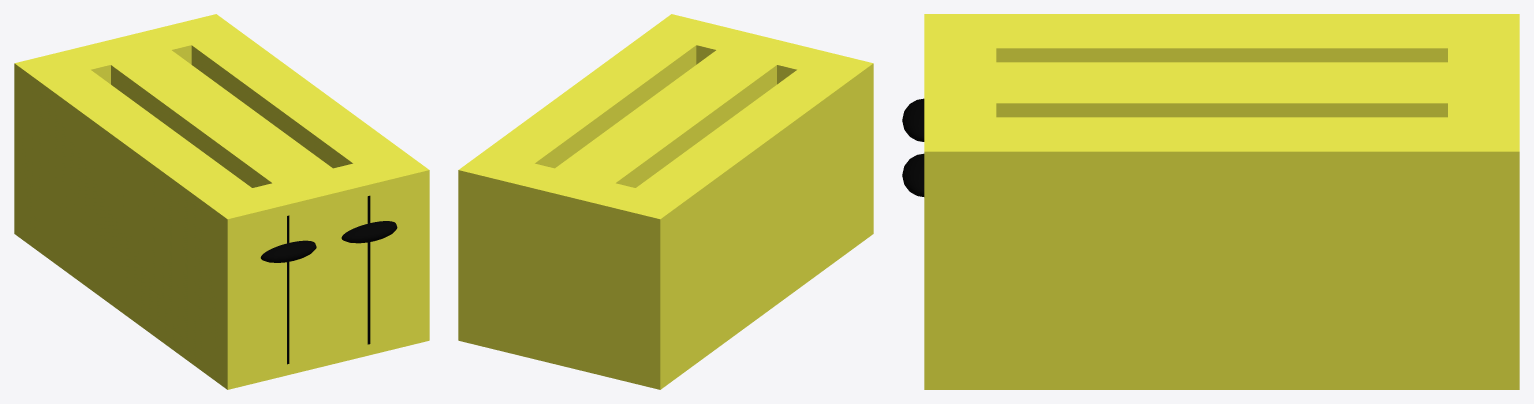
Rendered from Toaster.fbx.
3 renders of one model, left to right at view 1: azimuth 30°, elevation 25°; view 2: azimuth 150°, elevation 25°; view 3: azimuth 270°, elevation 25°, orthographic. The views are drawn at different scales.
Parts seen in each view (by area): view 1: Toaster, Toaster_Button_R, Toaster_Button_L; view 2: Toaster; view 3: Toaster, Toaster_Button_R, Toaster_Button_L.
Part boxes in pixels (x1,y1,x2,y2): Toaster: (14,14,429,389); Toaster_Button_R: (260,240,316,262); Toaster_Button_L: (341,221,397,243); Toaster: (458,14,873,389); Toaster: (924,14,1519,389); Toaster_Button_R: (902,98,924,141); Toaster_Button_L: (902,153,924,196).
Bounding box in the file's own units: 31.49 × 25.43 × 59.71.
